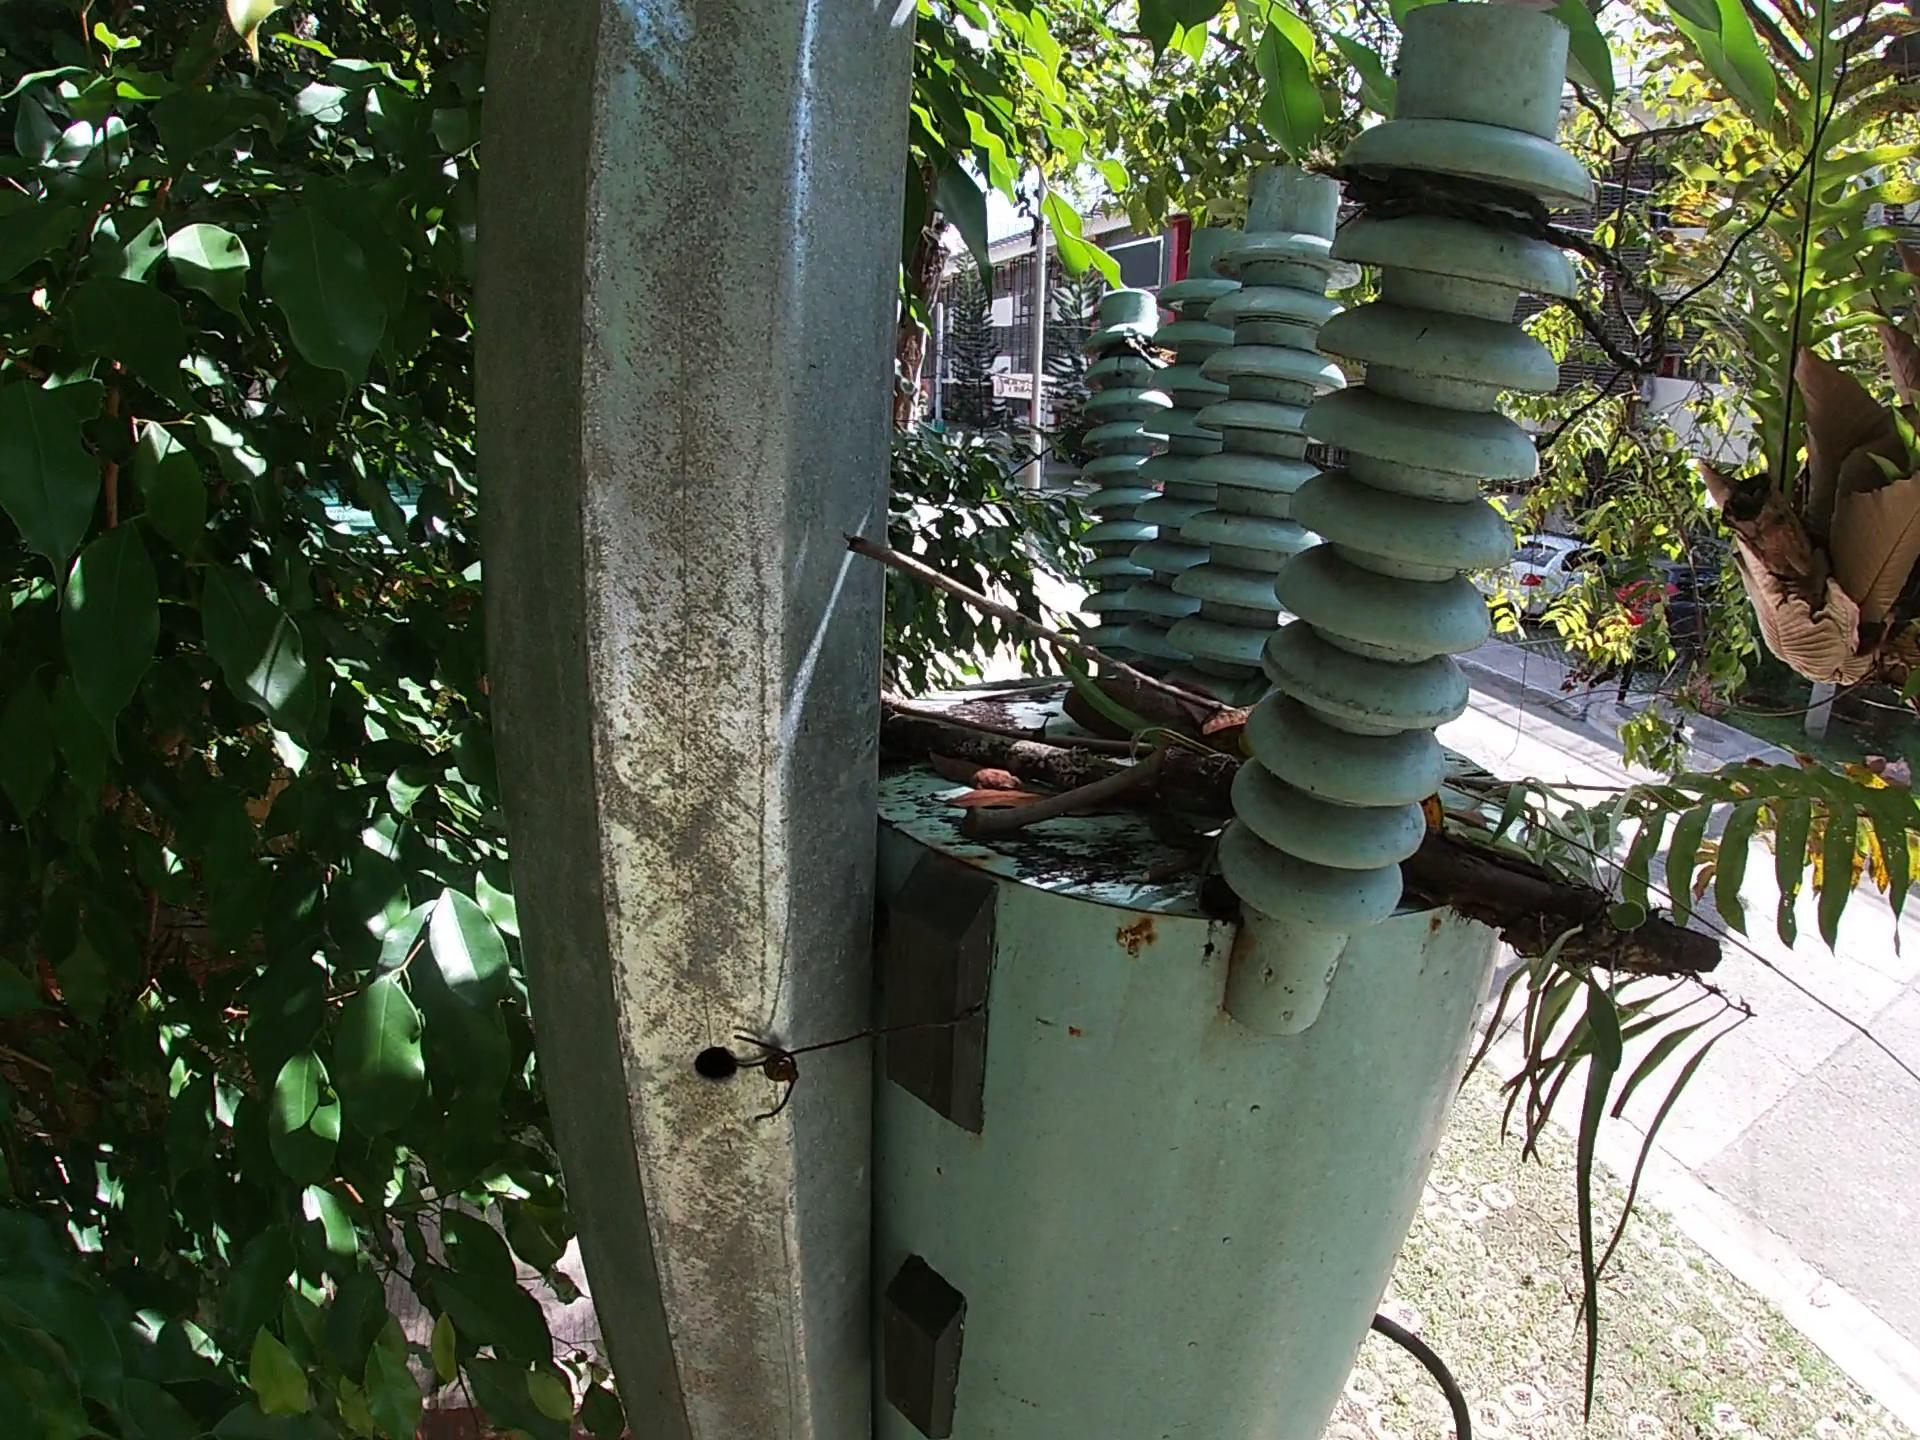branch with leaves: (865, 687, 1680, 935), (954, 734, 1252, 900), (893, 672, 1169, 750)
leaf: (943, 715, 1043, 820)
mahogany fruit: (850, 535, 901, 582)
tree branch: (831, 511, 1203, 700), (1346, 734, 1469, 892)
